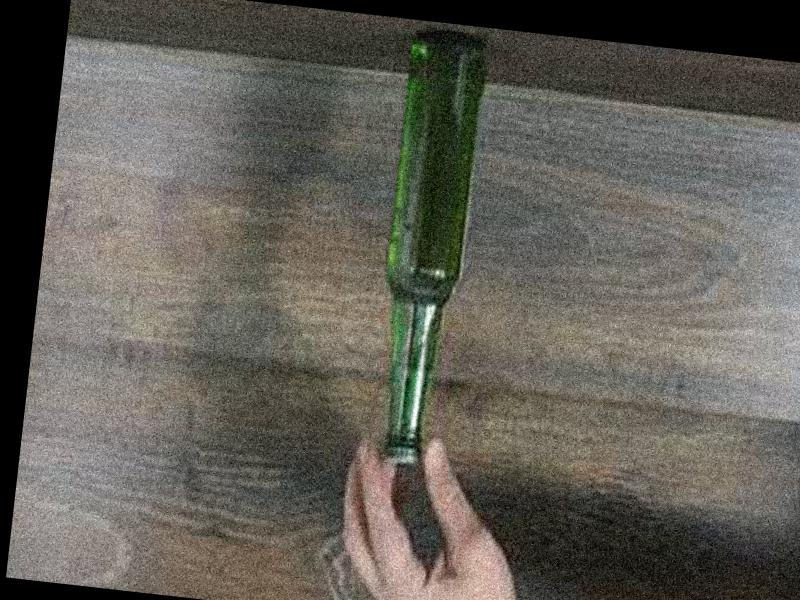Beer: (364, 30, 490, 470)
